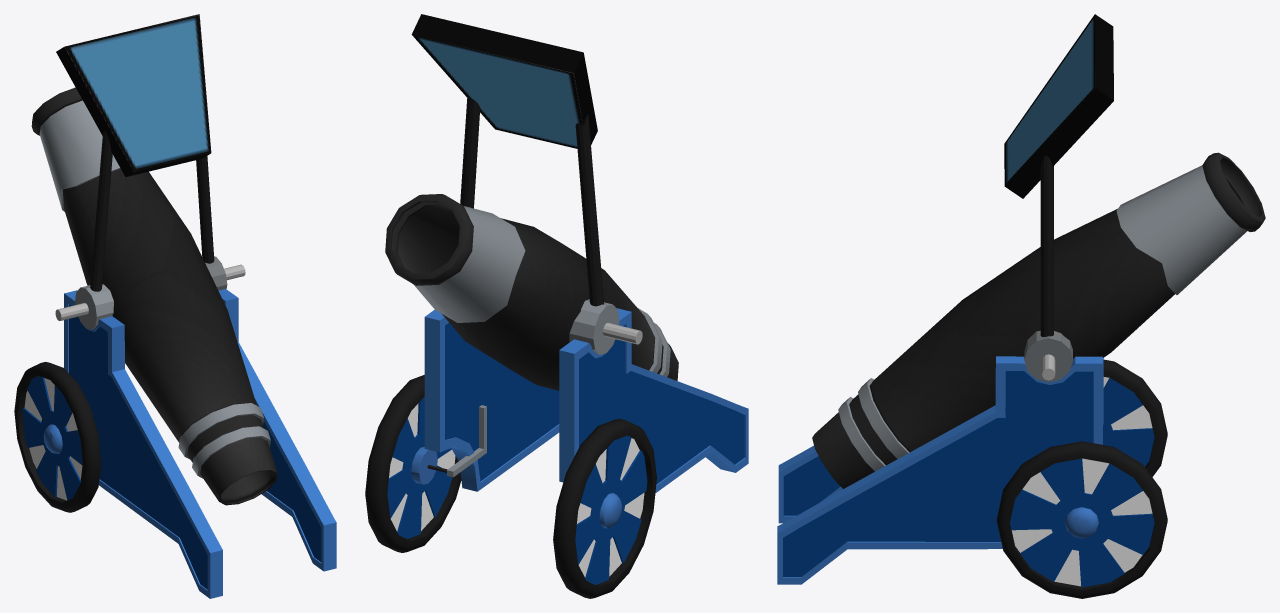
File: cannon_final.fbx
3 renders of one model, left to right at view 1: azimuth 30°, elevation 25°; view 2: azimuth 150°, elevation 25°; view 3: azimuth 270°, elevation 25°, orthographic. The views are drawn at different scales.
Parts seen in each view (by area): view 1: cannon1, screen, side_plate_1, wheel_1, side_plate_5, rod_2, ring_2, rod_1, ring_1; view 2: cannon1, side_plate_1, side_plate_5, screen, wheel_1, wheel_2, rod_2, ring_2, rod_1; view 3: cannon1, side_plate_5, wheel_2, screen, wheel_1, side_plate_1, rod_1, ring_1.
Part boxes in pixels (left/top/right/bottom): cannon1: left=31, top=87, right=277, bottom=505; screen: left=56, top=14, right=211, bottom=176; side_plate_1: left=64, top=290, right=222, bottom=598; wheel_1: left=14, top=362, right=101, bottom=512; side_plate_5: left=218, top=289, right=336, bottom=571; rod_2: left=90, top=130, right=112, bottom=291; ring_2: left=55, top=284, right=113, bottom=329; rod_1: left=196, top=156, right=214, bottom=263; ring_1: left=205, top=256, right=245, bottom=290; cannon1: left=385, top=194, right=678, bottom=390; side_plate_1: left=559, top=308, right=748, bottom=493; side_plate_5: left=424, top=309, right=559, bottom=491; screen: left=411, top=14, right=597, bottom=148; wheel_1: left=553, top=418, right=656, bottom=598; wheel_2: left=365, top=375, right=461, bottom=552; rod_2: left=575, top=114, right=604, bottom=306; ring_2: left=569, top=299, right=642, bottom=354; rod_1: left=460, top=98, right=480, bottom=208; cannon1: left=812, top=152, right=1265, bottom=488; side_plate_5: left=777, top=356, right=1102, bottom=584; wheel_2: left=996, top=441, right=1167, bottom=598; screen: left=1004, top=14, right=1113, bottom=198; wheel_1: left=1103, top=359, right=1167, bottom=476; side_plate_1: left=778, top=358, right=1103, bottom=523; rod_1: left=1040, top=155, right=1053, bottom=336; ring_1: left=1024, top=330, right=1072, bottom=382.
Size of the model in its own units: 4.32 by 10.18 by 8.93.
